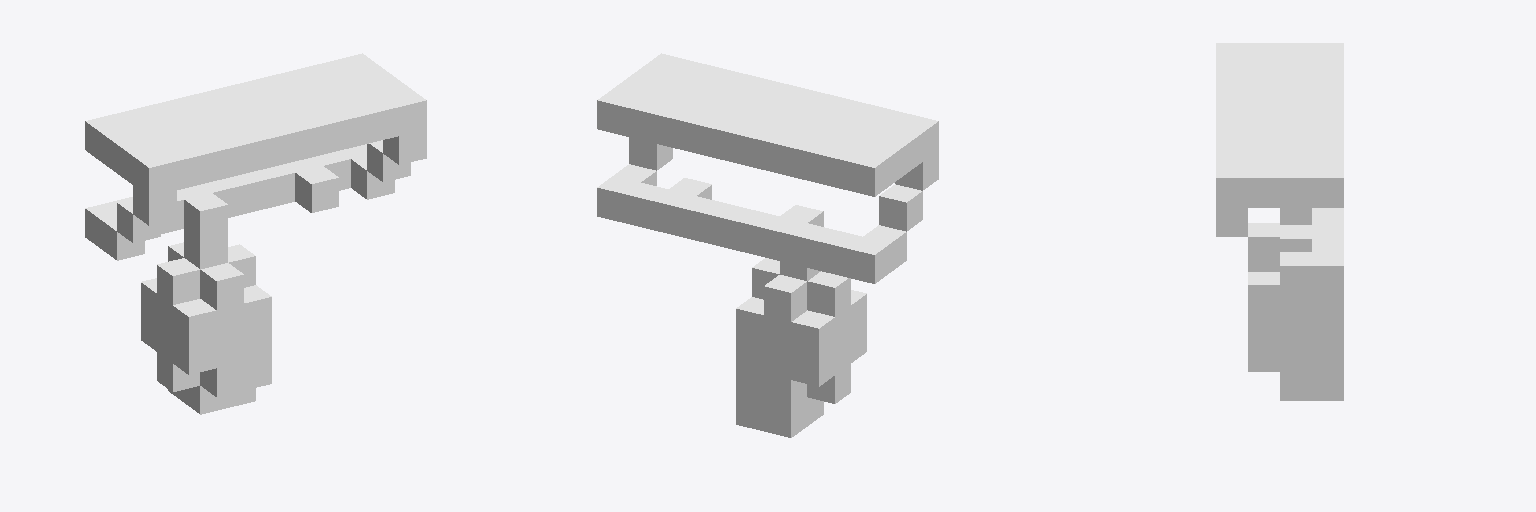
The model's file is tavern-33-shelf_meat.obj.
3 views of the same model, side by side, from view 1: azimuth 30°, elevation 25°; view 2: azimuth 150°, elevation 25°; view 3: azimuth 270°, elevation 25° (orthographic).
Visible parts, largest first — view 1: shelf_meat; view 2: shelf_meat; view 3: shelf_meat.
Part boxes in pixels (x1,y1,x2,y2): shelf_meat: (85,53,426,414); shelf_meat: (597,53,938,437); shelf_meat: (1216,43,1343,400).
Bounding box in the file's own units: 1 × 1 × 0.4.